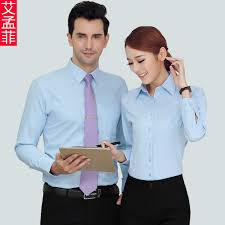F_belt: (32, 181, 120, 199)
F_shirt: (11, 58, 130, 188), (115, 75, 209, 179)
F_tailored skirt: (120, 173, 192, 225)
F_tie: (80, 72, 100, 195)
